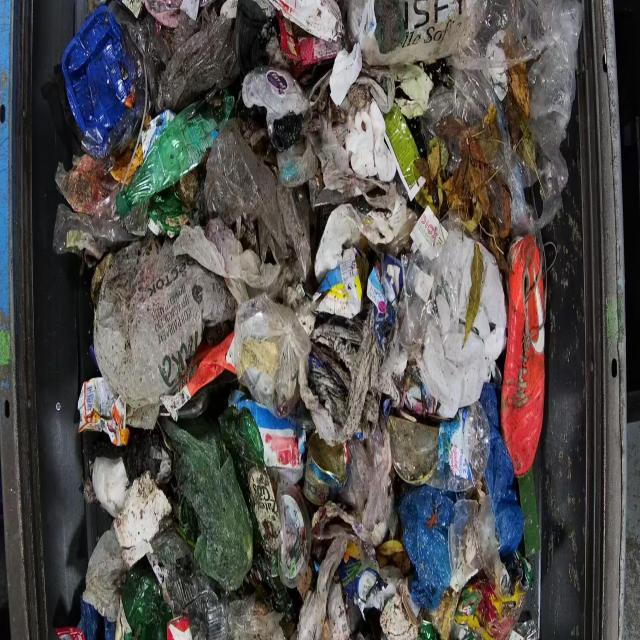cardboard: (27, 0, 608, 639)
